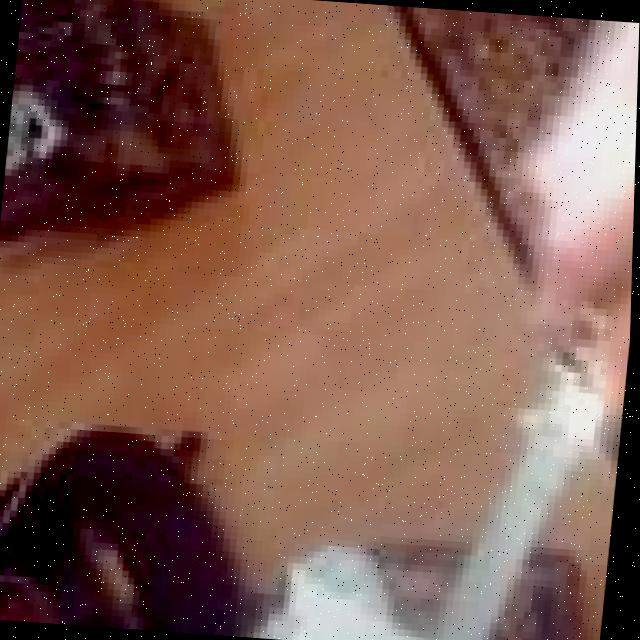knife: (432, 278, 623, 640)
